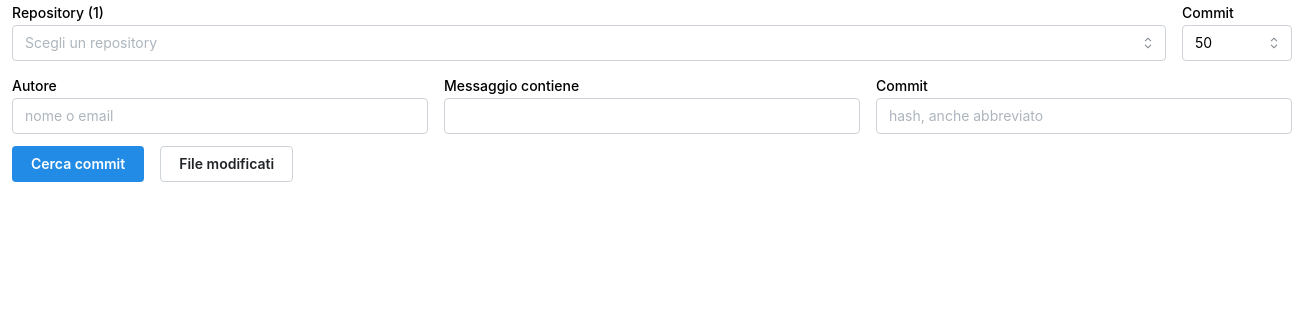
Test: GitTab › searches the commits of the chosen repository with the filters
Click the button "Cerca commit". click: (78, 164)
box: [12,146,144,182]
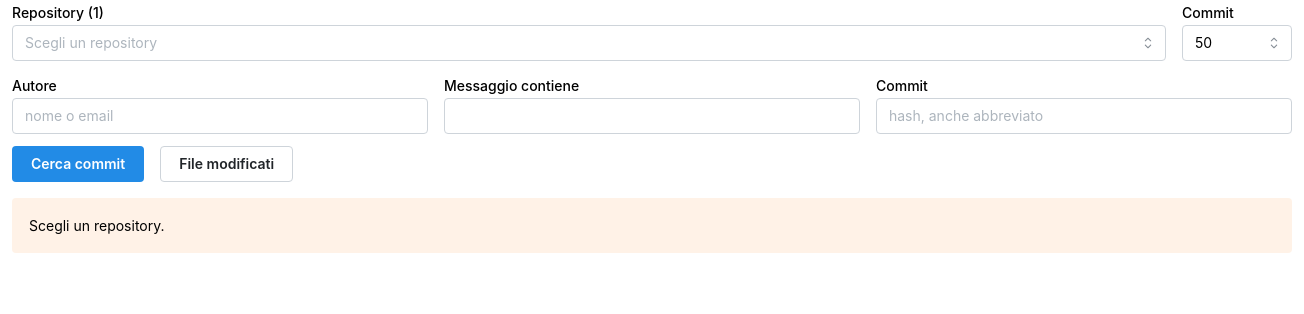
Expected: the text "Scegli un repository." is shown, [29,217,164,234]
Click the field with placeholder "Scegli un repository". click: (589, 43)
box: [12,25,1166,61]
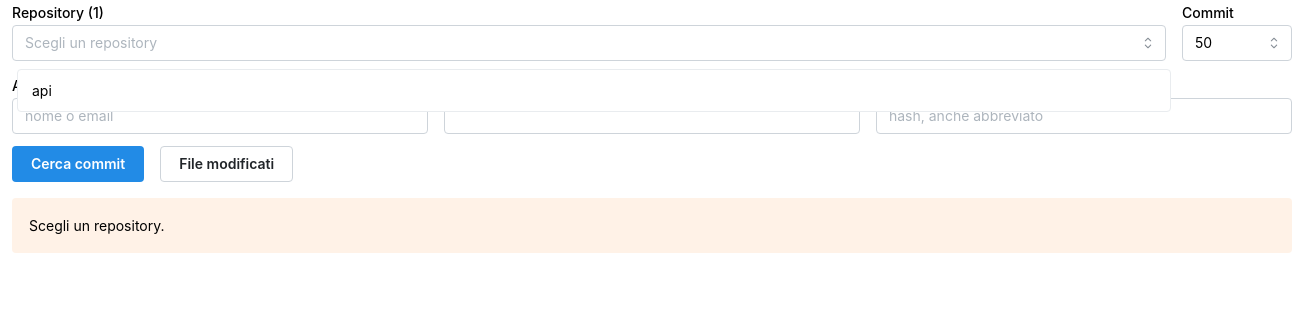
Click the option "api". click: (42, 90)
box: [32,82,52,99]
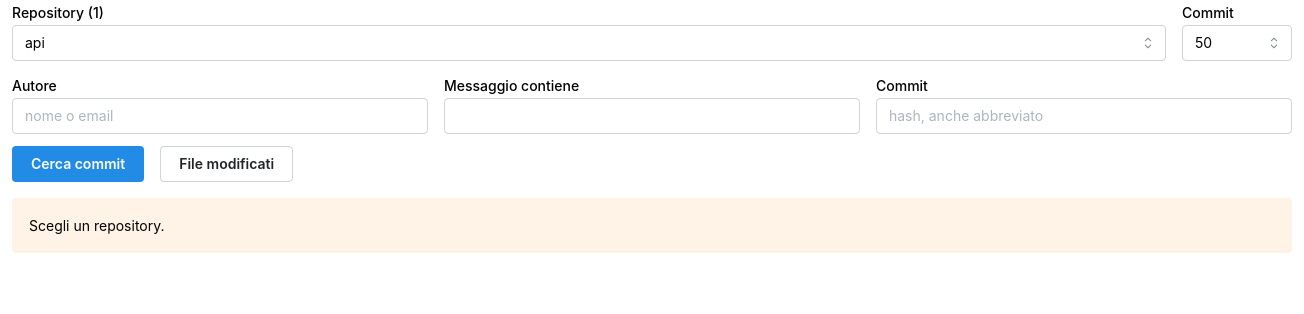
Type "Ada" into the field labelled "Autore". click: (220, 116)
box: [12,98,428,134]
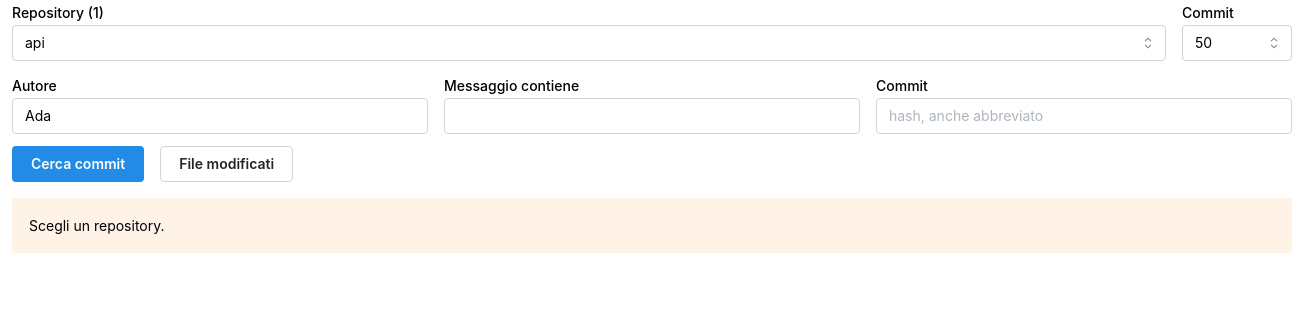
Click the button "Cerca commit". click: (78, 164)
box: [12,146,144,182]
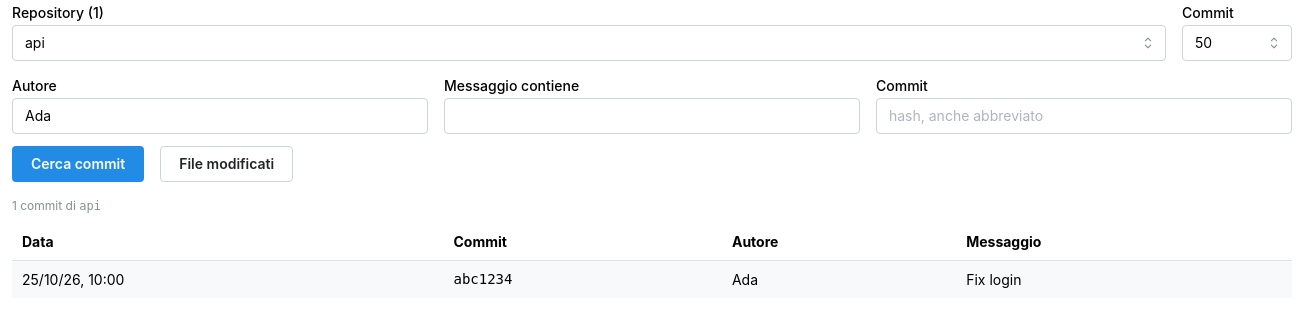
Expected: the text "Fix login" is shown, [956,261,1292,298]
